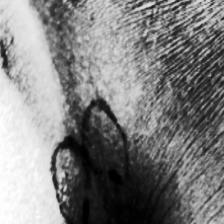Benign Marking or Mole: (86, 127, 105, 156)
